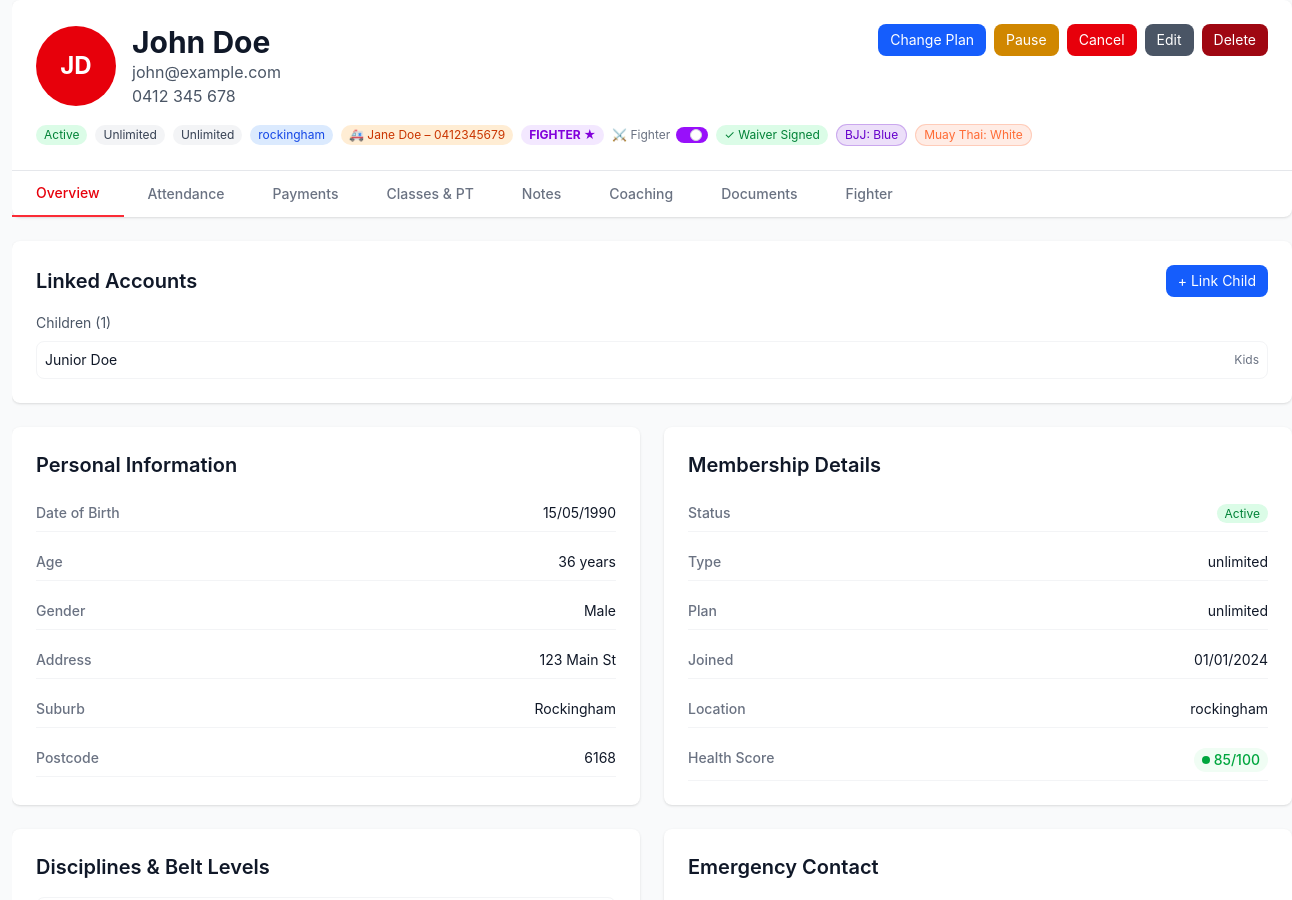
Test: MemberProfile Page › shows fighter tab with competition history and W/L record
The width and height of the screenshot is (1292, 900).
Click the button "Fighter": (869,194) [822, 171, 917, 217]
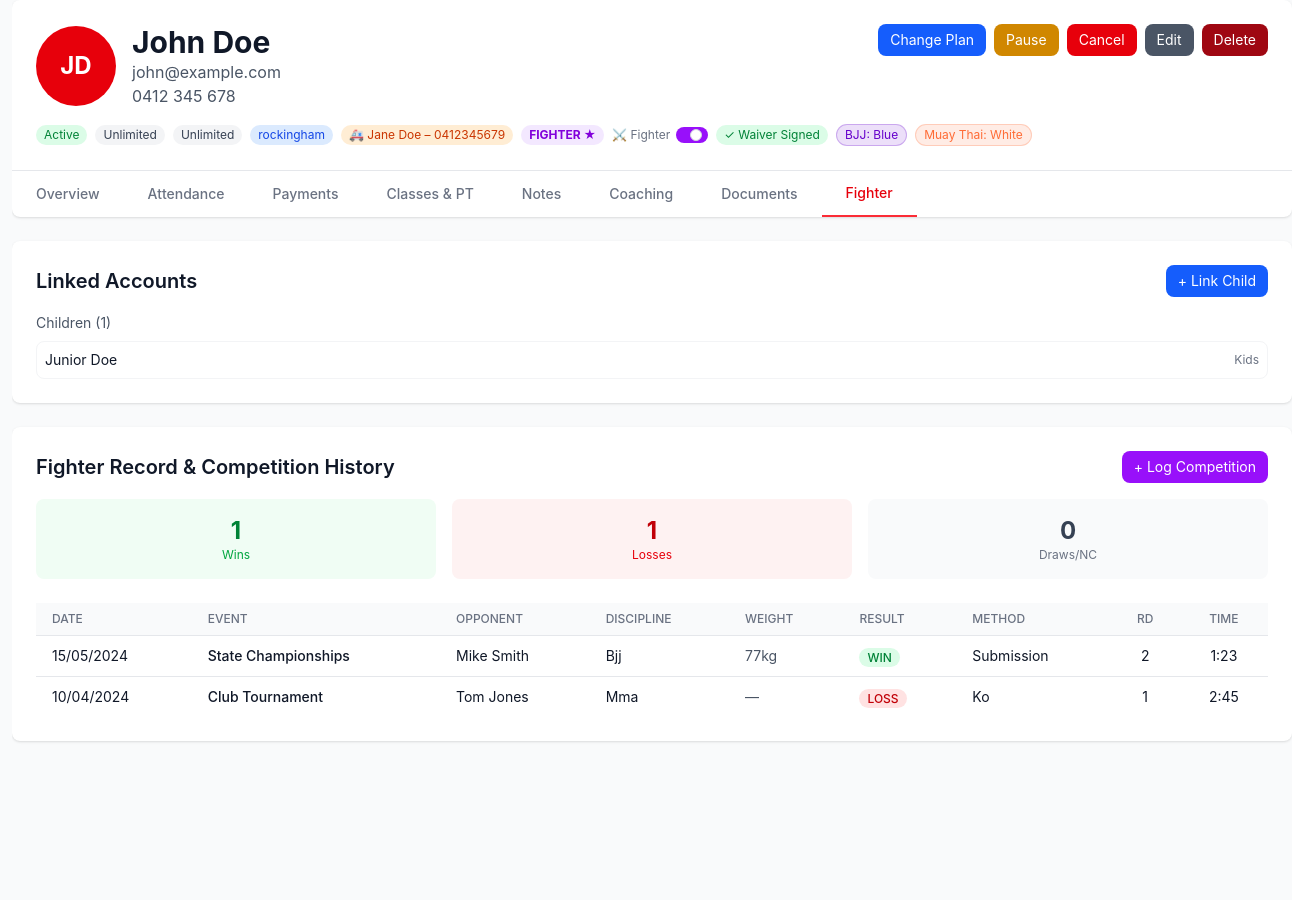
Expected: the text "Wins" is shown, [222, 547, 250, 562]
Expected: the text "Losses" is shown, [632, 547, 672, 562]
Expected: the text "Draws/NC" is shown, [1039, 547, 1097, 562]
